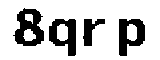8: (12, 5, 45, 49)
p: (112, 15, 152, 60)
q: (45, 14, 78, 60)
r: (79, 15, 109, 51)
